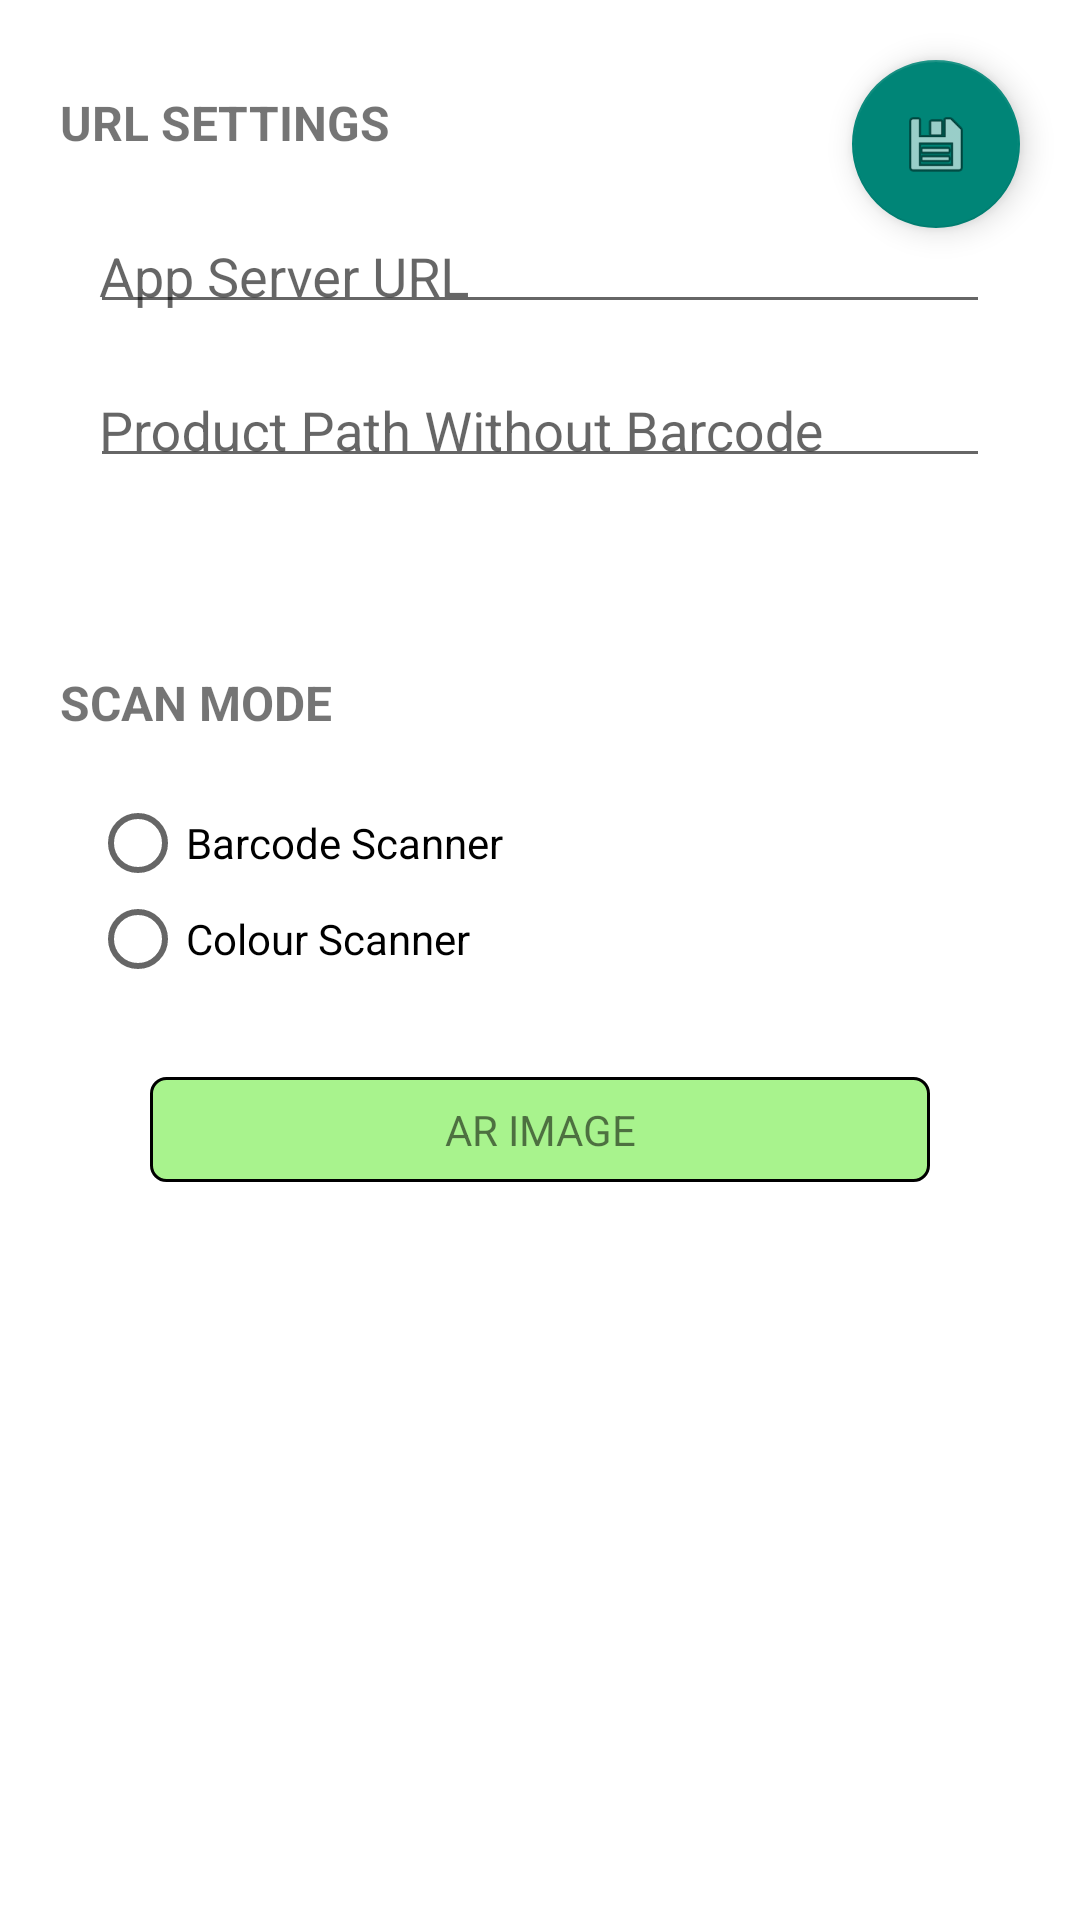

Where to tap for icons on this 1080px x 1920px app screen, as (x=x, y=y):
save: (x=936, y=144)
